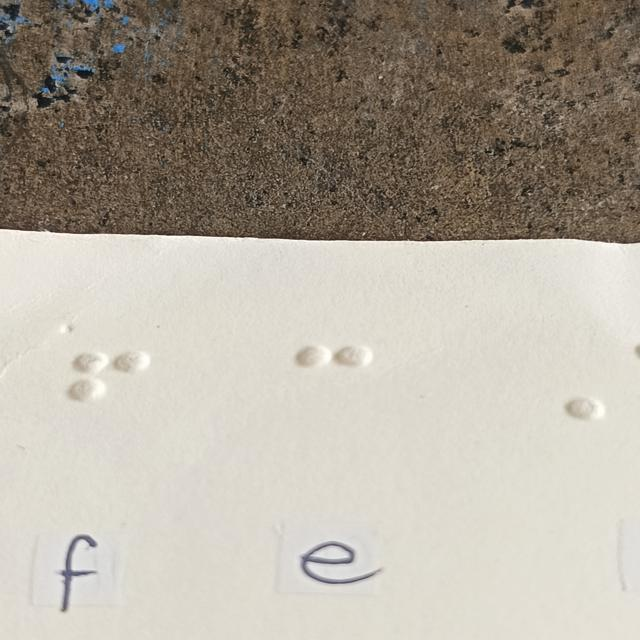e: (295, 345, 373, 427)
f: (70, 352, 148, 434)
